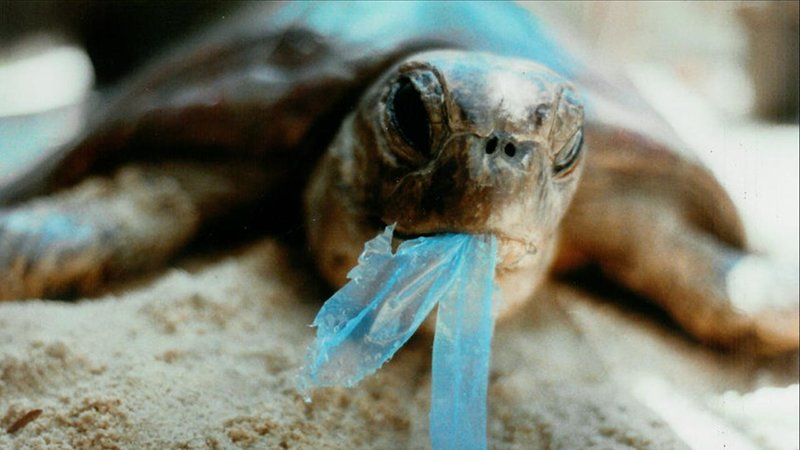litter: (286, 218, 531, 450)
